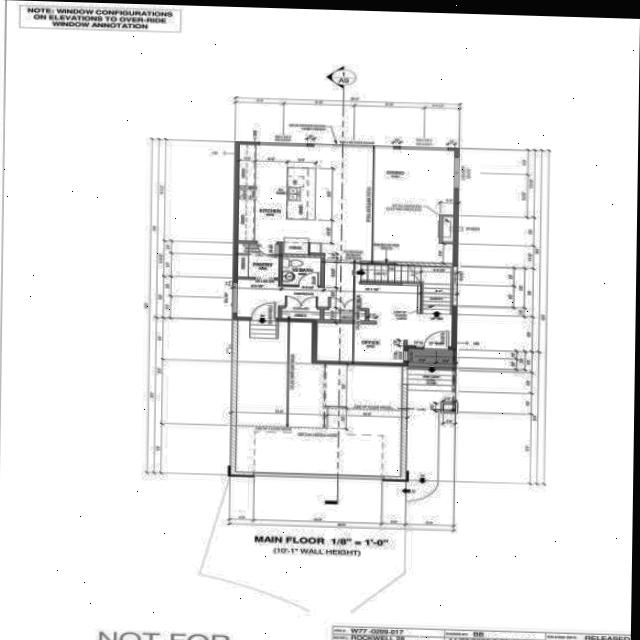room: (234, 320, 405, 476), (237, 243, 280, 278), (282, 257, 322, 286), (281, 308, 321, 320), (324, 310, 365, 321)
